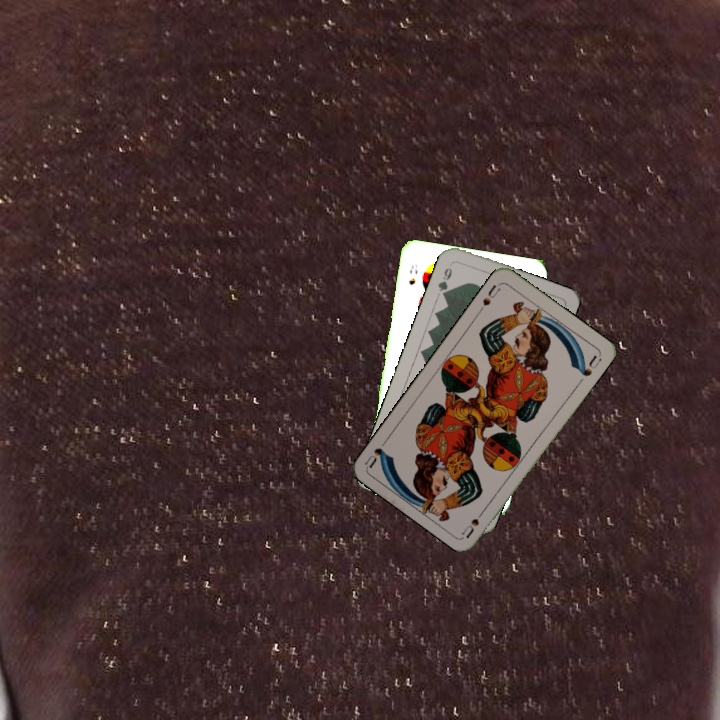G9: (434, 259, 455, 300)
S8: (405, 261, 420, 287)
SU: (458, 503, 489, 540), (475, 280, 503, 315)
